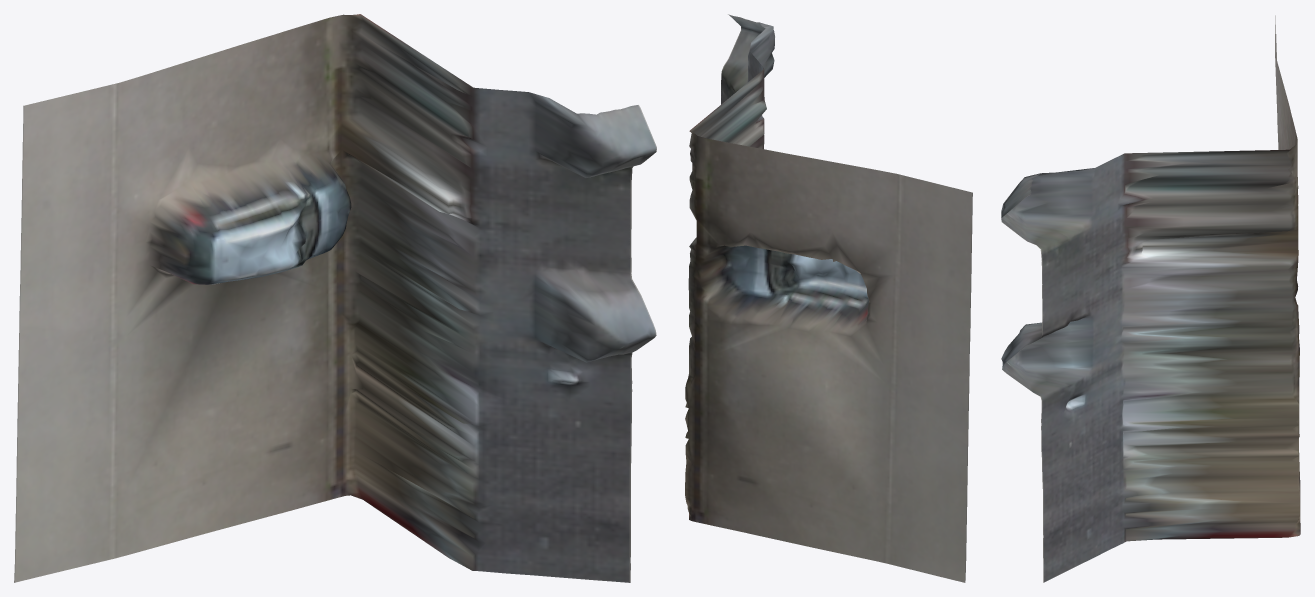
The model's file is map_80_90.obj.
3 views of the same model, side by side, from view 1: azimuth 30°, elevation 25°; view 2: azimuth 150°, elevation 25°; view 3: azimuth 270°, elevation 25° (orthographic). The views are drawn at different scales.
Size of the model in its own units: 10 by 10 by 6.99.
1 material, 1 textured.
